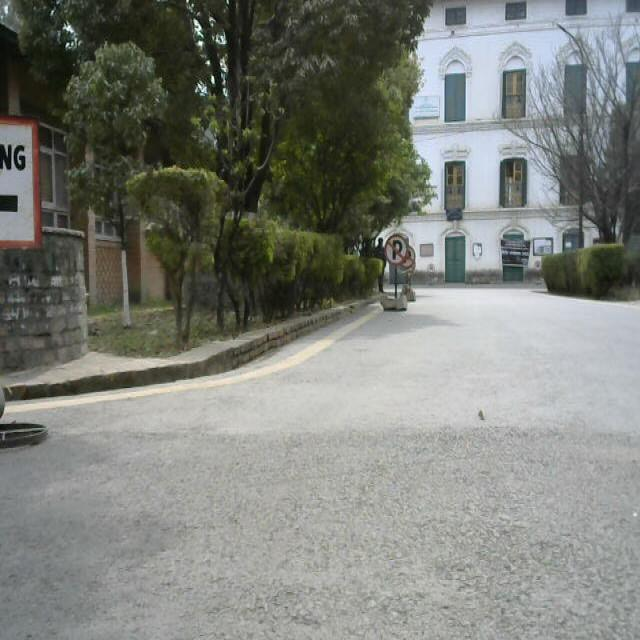Buildings: (421, 3, 640, 301)
NoParking: (379, 224, 425, 309), (405, 243, 431, 306)
trees: (41, 293, 636, 640), (40, 0, 370, 319), (87, 38, 242, 324), (218, 208, 283, 328), (293, 226, 353, 303), (274, 223, 309, 303), (329, 234, 365, 308)
